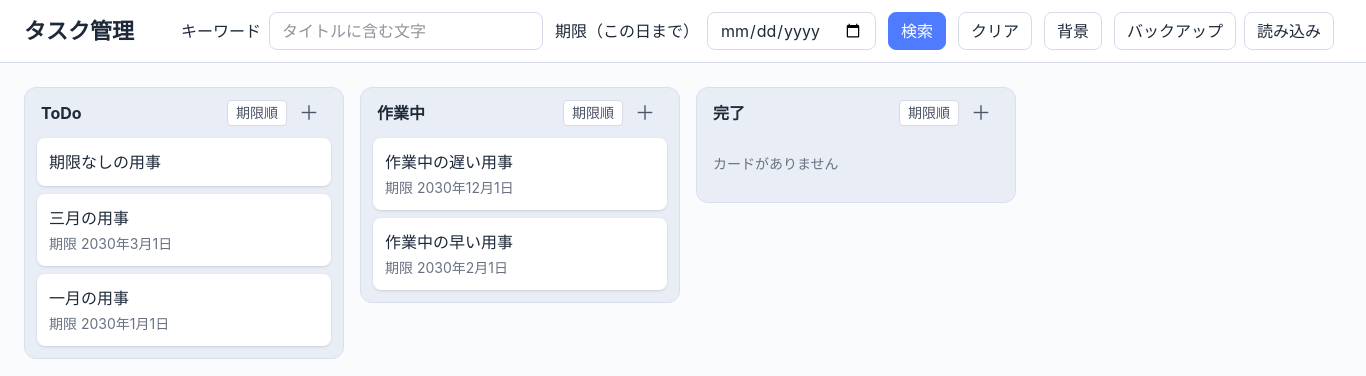
Test: 通信している間は、ボタンが押せない
Expected: the element "ToDo" is shown, left=24, top=87, right=344, bottom=359
Click the button with aria-label "ToDoを期限順に並べ替え". click: (257, 113)
box: left=227, top=100, right=287, bottom=126
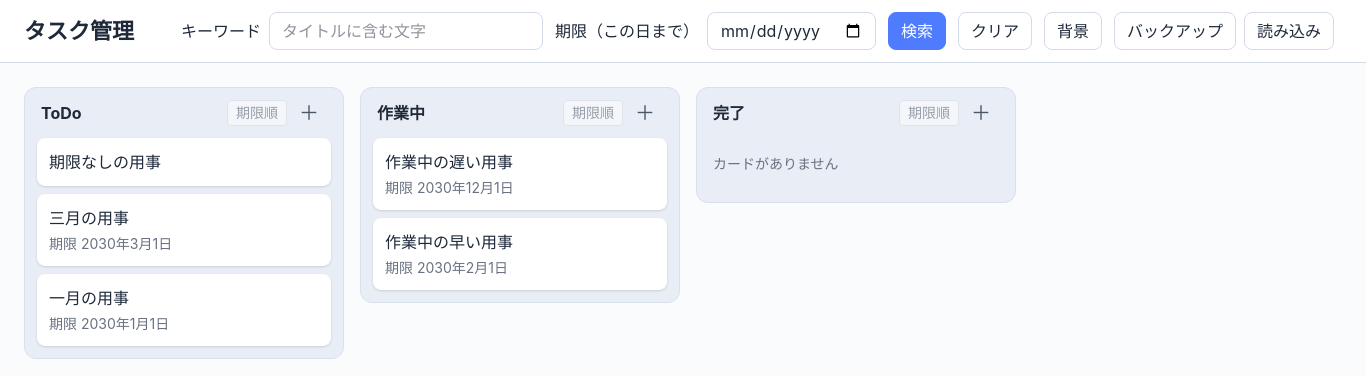
Now the button with aria-label "ToDoを期限順に並べ替え" is disabled
Now the button with aria-label "作業中を期限順に並べ替え" is disabled, box left=563, top=100, right=623, bottom=126
Click the button with aria-label "ToDoを期限順に並べ替え". click: (257, 113)
box: left=227, top=100, right=287, bottom=126
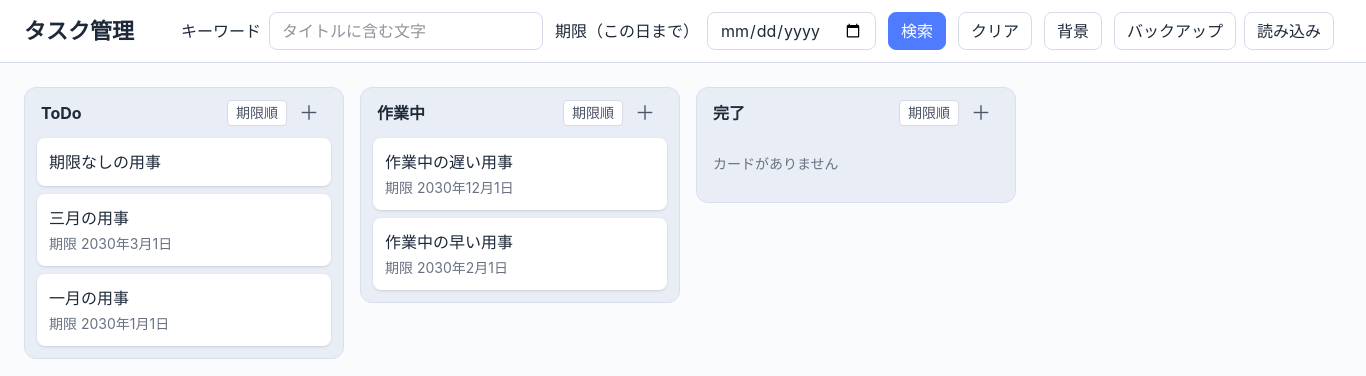
Now the button with aria-label "ToDoを期限順に並べ替え" is enabled, box left=227, top=100, right=287, bottom=126
